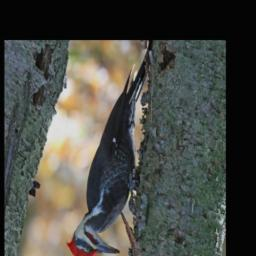Woodpecker: (66, 42, 151, 256)
